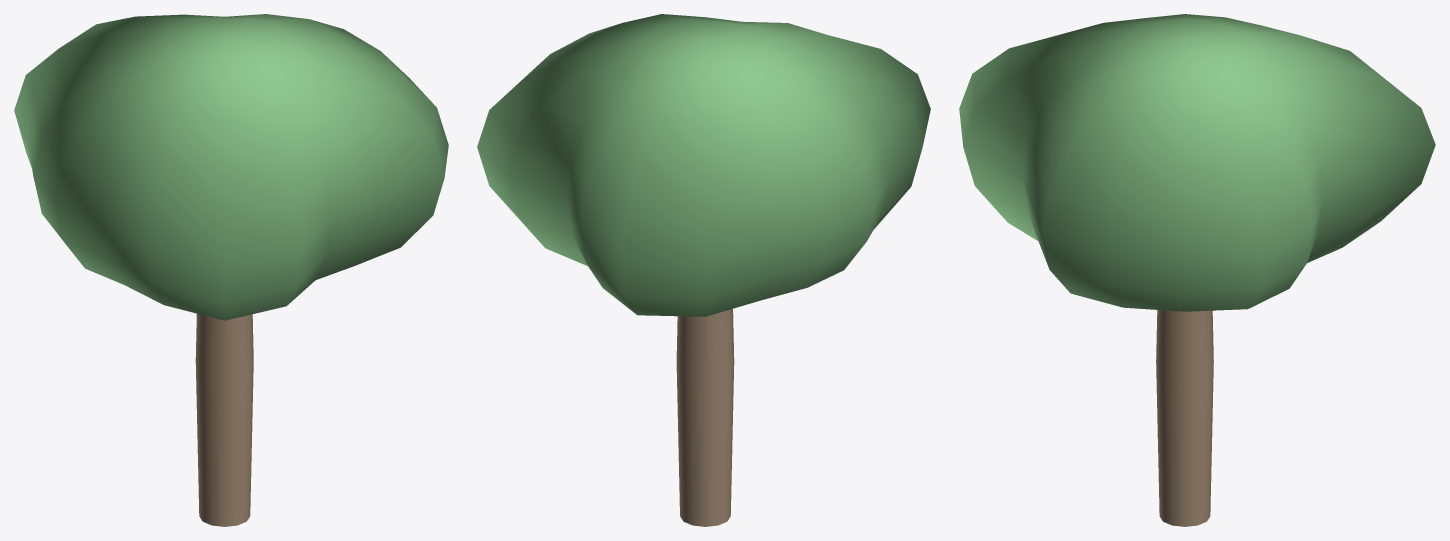
The model's file is drzewo.glb.
3 renders of one model, left to right at view 1: azimuth 30°, elevation 25°; view 2: azimuth 150°, elevation 25°; view 3: azimuth 270°, elevation 25°, orthographic.
Visible parts, largest first — view 1: korona, pien; view 2: korona, pien; view 3: korona, pien.
Boxes of the visible parts, bbox=[...] form: korona: bbox=[14, 14, 448, 320]; pien: bbox=[195, 313, 253, 526]; korona: bbox=[477, 14, 930, 316]; pien: bbox=[676, 309, 734, 526]; korona: bbox=[959, 14, 1435, 311]; pien: bbox=[1156, 310, 1213, 526].
Size of the model in its own units: 3.2 by 4 by 3.63.
